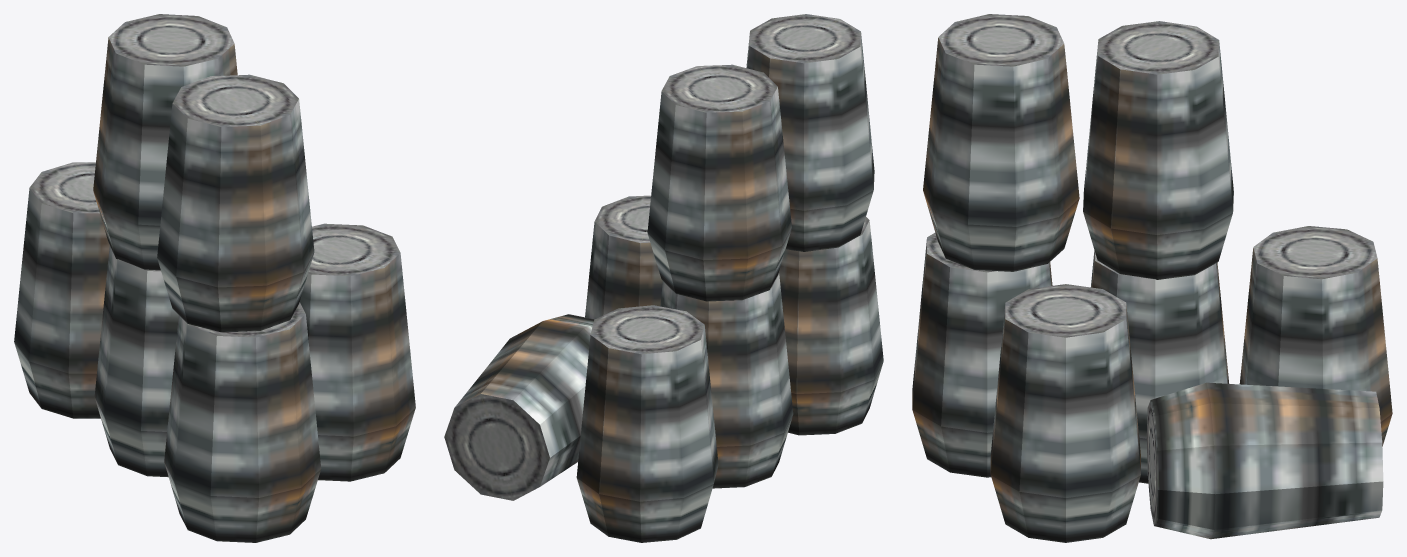
File: eaw_crates3.glb
3 views of the same model, side by side, from view 1: azimuth 30°, elevation 25°; view 2: azimuth 150°, elevation 25°; view 3: azimuth 270°, elevation 25° (orthographic). The views are drawn at different scales.
Parts seen in each view (by area): view 1: clusterC_01_0; view 2: clusterC_01_0; view 3: clusterC_01_0.
Part boxes in pixels (x1,y1,x2,y2): clusterC_01_0: (14, 14, 415, 542); clusterC_01_0: (444, 14, 883, 542); clusterC_01_0: (912, 14, 1392, 542).
Bounding box in the file's own units: 2.12 × 2.81 × 2.98.
Materials: 1 (1 with a texture image).
